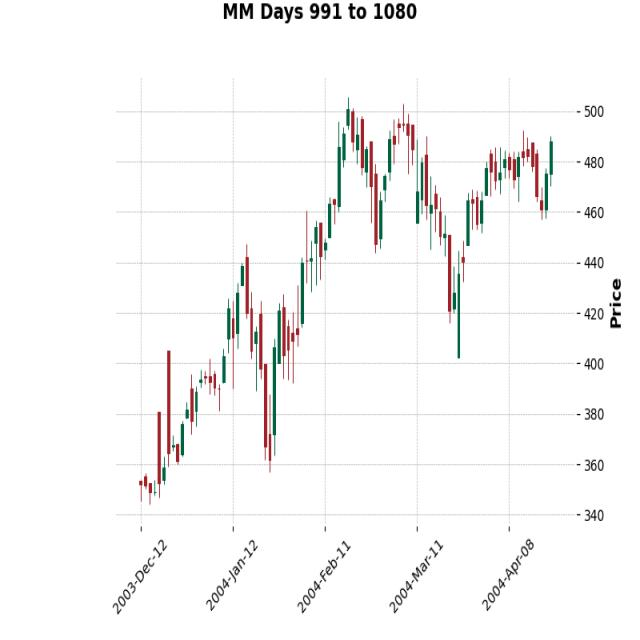Triple Bottom Reversal: (322, 92, 496, 366)
